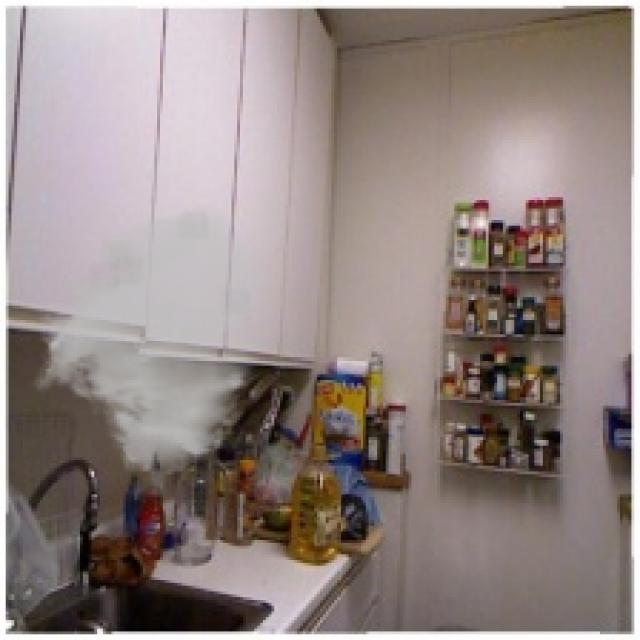smoke: (32, 203, 268, 477)
